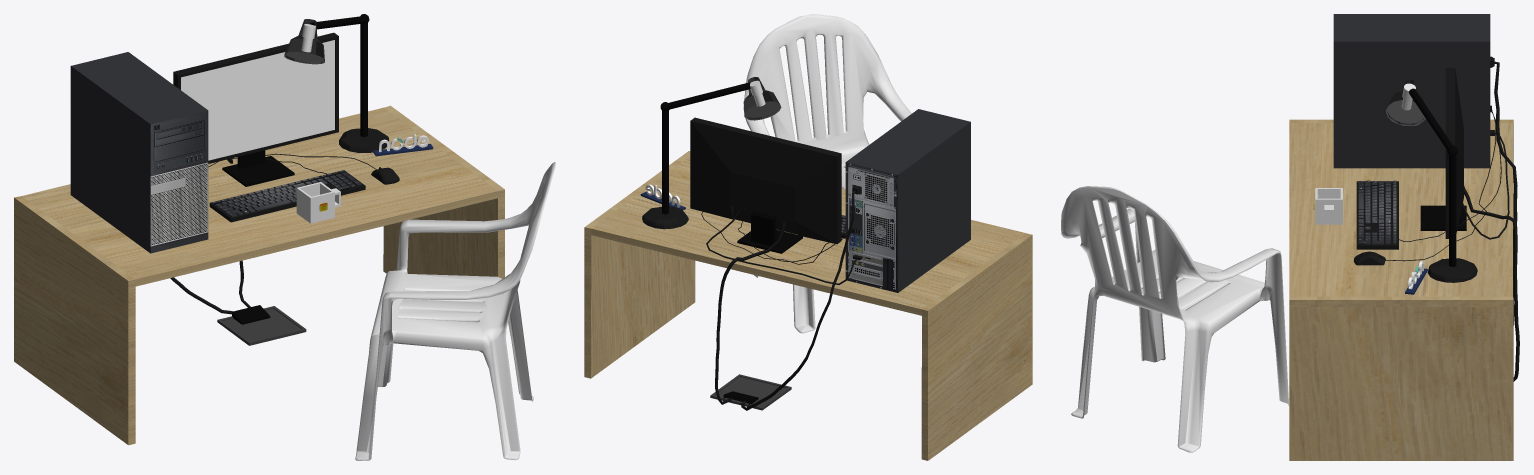
File: MySetup.gltf
3 views of the same model, side by side, from view 1: azimuth 30°, elevation 25°; view 2: azimuth 150°, elevation 25°; view 3: azimuth 270°, elevation 25° (orthographic). The views are drawn at different scales.
Visible parts, largest first — view 1: Cube.046, PC, Chair, Screen, Desklamp, Keys, Monitor1, Cube.039, Cube.007, Cube, Cube.003; view 2: Cube.046, PC, Chair, Monitor1, Desklamp, Cube.039, Catenary.004, Catenary.003, Cube.001, Cube, Catenary; view 3: Cube.046, Chair, PC, Desklamp, Monitor1, Keys, Cube.003, Catenary.003, Cube.007, Cube, Catenary.004, lightGlass.
Part boxes in pixels (x1=…): Cube.046: x1=14, y1=105, x2=504, y2=445; PC: x1=70, y1=52, x2=208, y2=253; Chair: x1=355, y1=162, x2=555, y2=460; Screen: x1=181, y1=40, x2=334, y2=160; Desklamp: x1=284, y1=14, x2=389, y2=152; Keys: x1=212, y1=170, x2=362, y2=217; Monitor1: x1=173, y1=32, x2=338, y2=163; Cube.039: x1=217, y1=306, x2=306, y2=345; Cube.007: x1=296, y1=182, x2=334, y2=223; Cube: x1=222, y1=156, x2=294, y2=186; Cube.003: x1=209, y1=170, x2=365, y2=222; Cube.046: x1=584, y1=151, x2=1032, y2=460; PC: x1=845, y1=109, x2=970, y2=292; Chair: x1=743, y1=14, x2=911, y2=333; Monitor1: x1=690, y1=117, x2=841, y2=244; Desklamp: x1=642, y1=77, x2=781, y2=229; Cube.039: x1=710, y1=374, x2=791, y2=410; Catenary.004: x1=741, y1=190, x2=855, y2=410; Catenary.003: x1=715, y1=220, x2=785, y2=404; Cube.001: x1=751, y1=211, x2=776, y2=245; Cube: x1=737, y1=230, x2=802, y2=253; Catenary: x1=706, y1=209, x2=857, y2=284; Cube.046: x1=1289, y1=119, x2=1513, y2=460; Chair: x1=1061, y1=186, x2=1289, y2=452; PC: x1=1333, y1=14, x2=1490, y2=168; Desklamp: x1=1386, y1=79, x2=1477, y2=282; Monitor1: x1=1445, y1=67, x2=1463, y2=238; Keys: x1=1358, y1=180, x2=1396, y2=244; Cube.003: x1=1356, y1=181, x2=1398, y2=249; Catenary.003: x1=1464, y1=186, x2=1519, y2=381; Cube.007: x1=1315, y1=188, x2=1342, y2=224; Cube: x1=1420, y1=205, x2=1466, y2=230; Catenary.004: x1=1494, y1=61, x2=1517, y2=325; lightGlass: x1=1387, y1=100, x2=1424, y2=123.
Size of the model in its own units: 9.3 by 7.63 by 10.
Materials: 13 (4 with a texture image).
